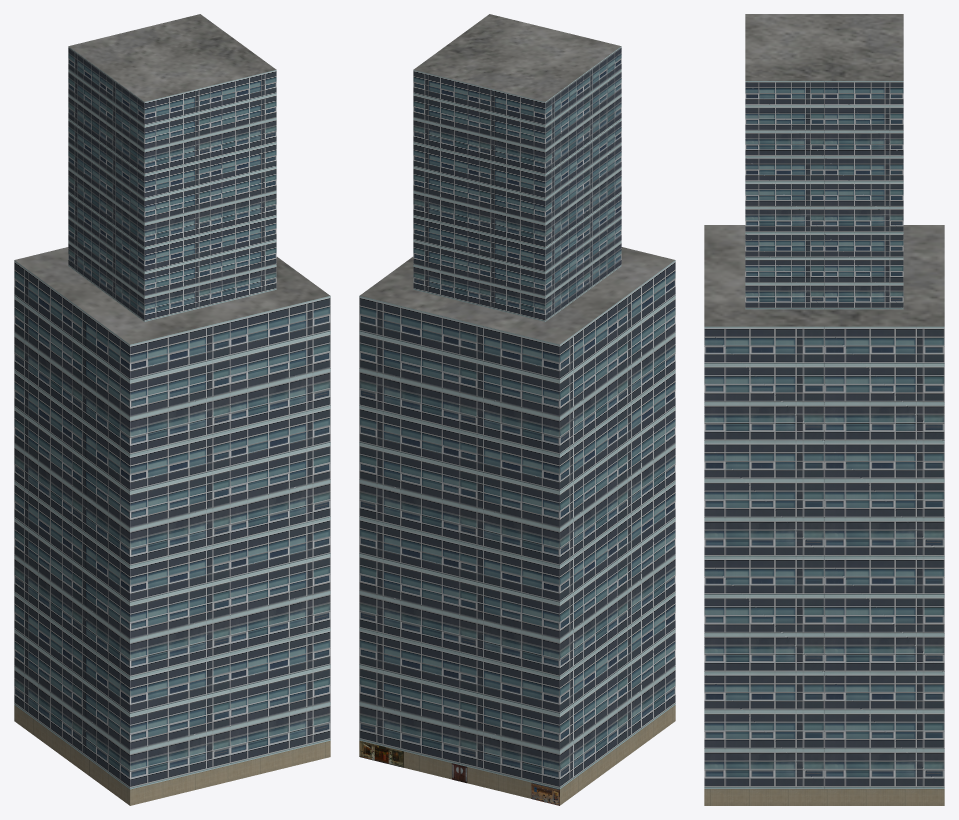
The model's file is Building033.fbx.
3 views of the same model, side by side, from view 1: azimuth 30°, elevation 25°; view 2: azimuth 150°, elevation 25°; view 3: azimuth 270°, elevation 25° (orthographic). The views are drawn at different scales.
Parts seen in each view (by area): view 1: Building033; view 2: Building033; view 3: Building033.
Boxes of the visible parts, x1,y1,x2,y2 form: Building033: [14, 14, 330, 805]; Building033: [359, 14, 675, 805]; Building033: [704, 14, 944, 805].
Size of the model in its own units: 31.27 by 102 by 31.27.
